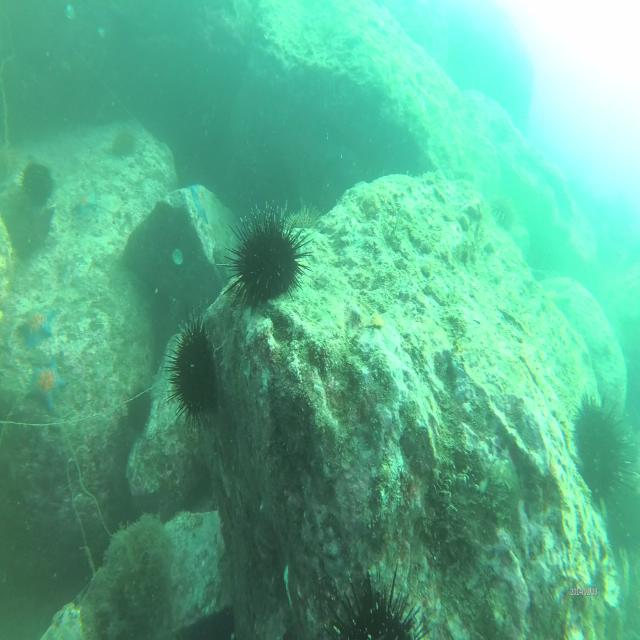echinus: (228, 202, 305, 311), (329, 571, 421, 640), (170, 320, 221, 423), (575, 395, 627, 492), (20, 160, 55, 210), (126, 383, 152, 433), (112, 129, 136, 160)
starfish: (26, 359, 66, 412), (20, 307, 55, 354), (71, 188, 98, 224), (190, 182, 210, 226)
